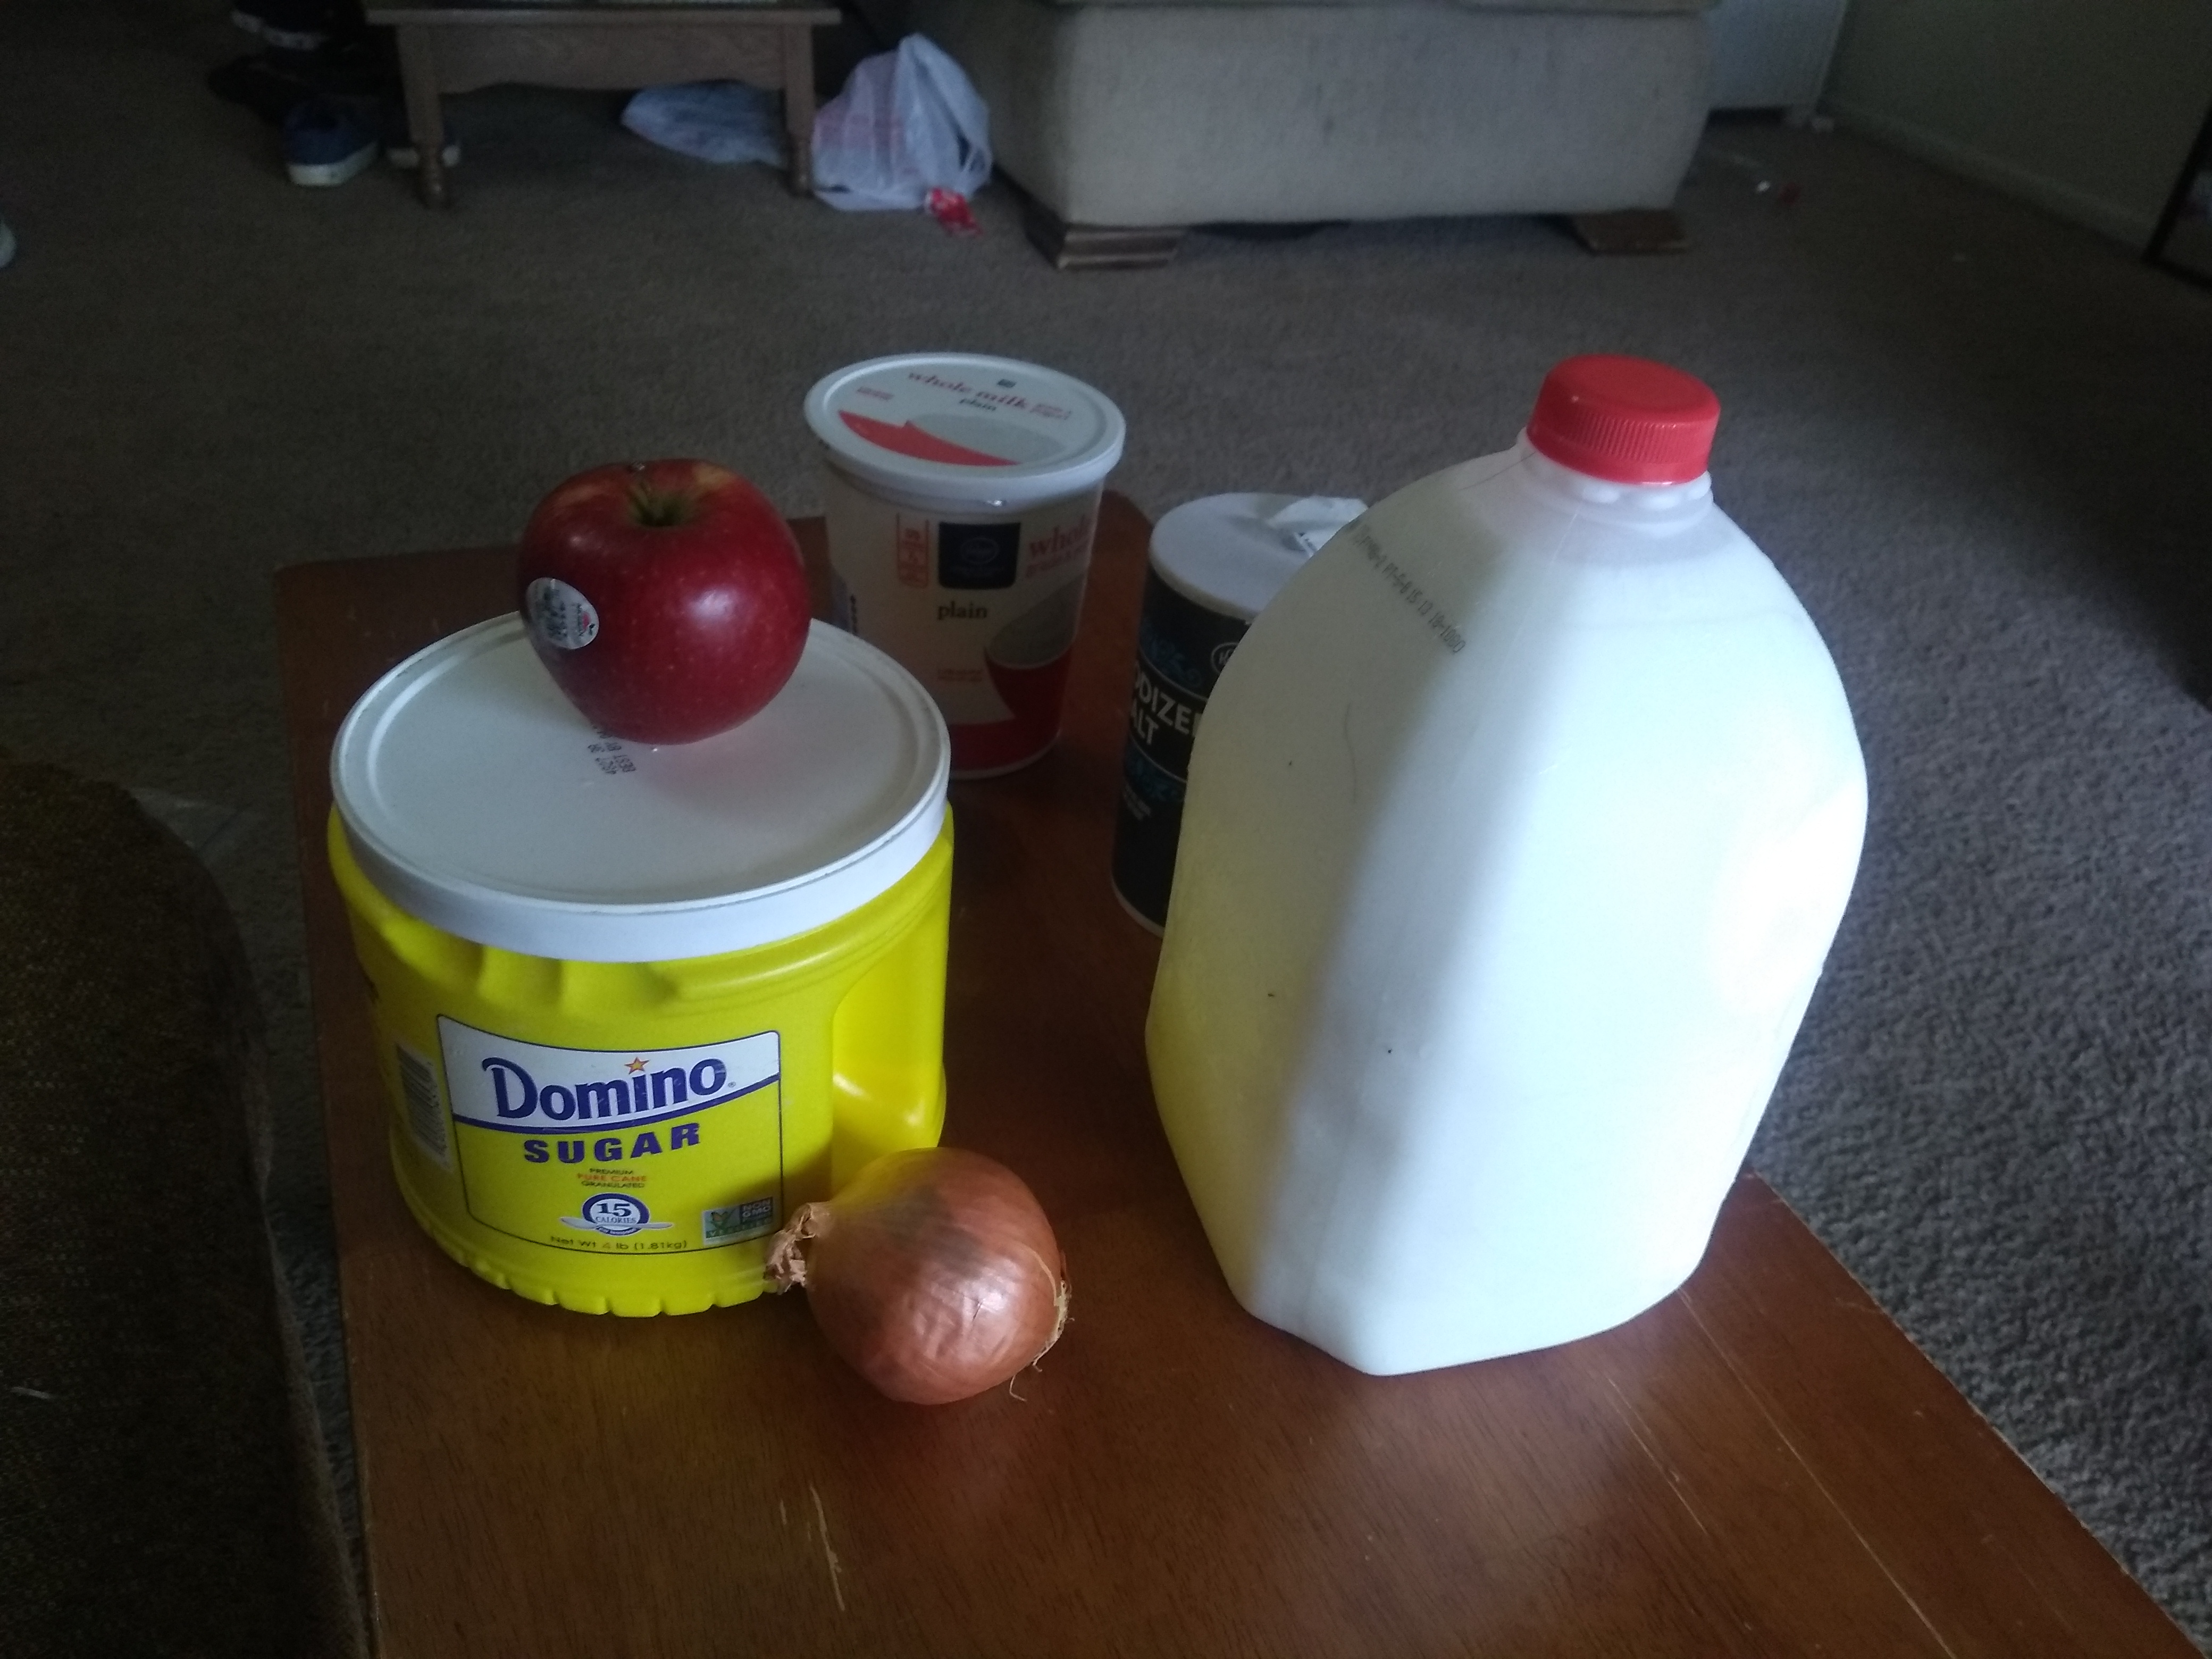apple: (500, 444, 829, 742)
milk: (1221, 328, 1897, 1398)
onion: (775, 1141, 1087, 1403)
salt: (1120, 471, 1374, 958)
sugar: (333, 586, 944, 1330)
yoghurt: (808, 338, 1118, 791)
